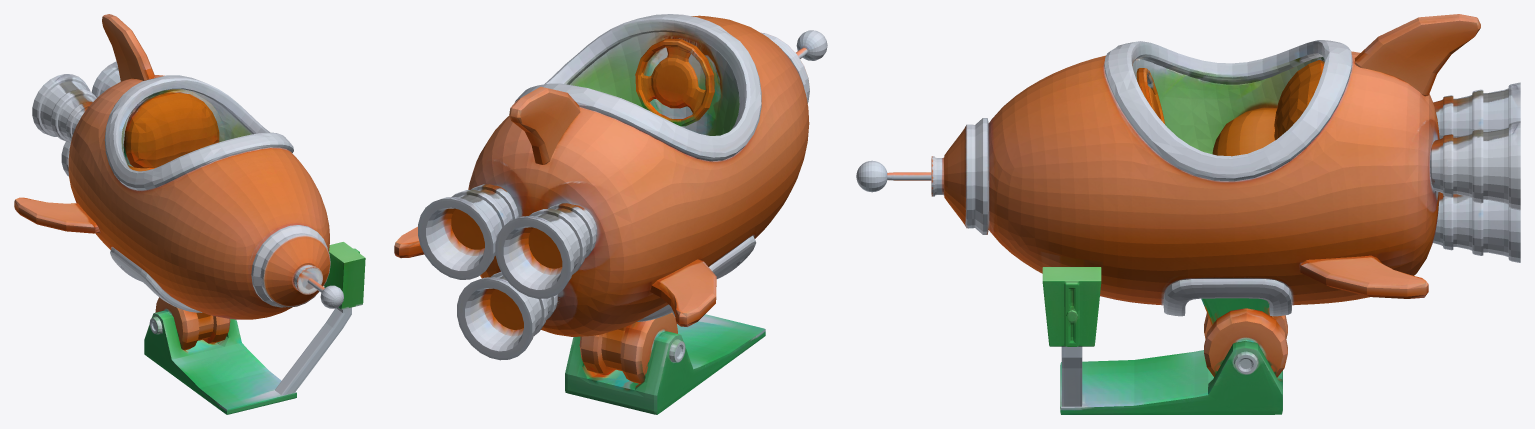
3 renders of one model, left to right at view 1: azimuth 30°, elevation 25°; view 2: azimuth 150°, elevation 25°; view 3: azimuth 270°, elevation 25°, orthographic. The views are drawn at different scales.
Visible parts, largest first — view 1: mvadapter_node_0007_9cf9da6809894cae9377ae94b1d4256b; view 2: mvadapter_node_0007_9cf9da6809894cae9377ae94b1d4256b; view 3: mvadapter_node_0007_9cf9da6809894cae9377ae94b1d4256b.
Part boxes in pixels (bbox=[...]): mvadapter_node_0007_9cf9da6809894cae9377ae94b1d4256b: bbox=[14, 14, 365, 414]; mvadapter_node_0007_9cf9da6809894cae9377ae94b1d4256b: bbox=[394, 14, 827, 414]; mvadapter_node_0007_9cf9da6809894cae9377ae94b1d4256b: bbox=[856, 14, 1520, 414].
Size of the model in its own units: 0.5315 by 0.6253 by 1.
1 material, 1 textured.
